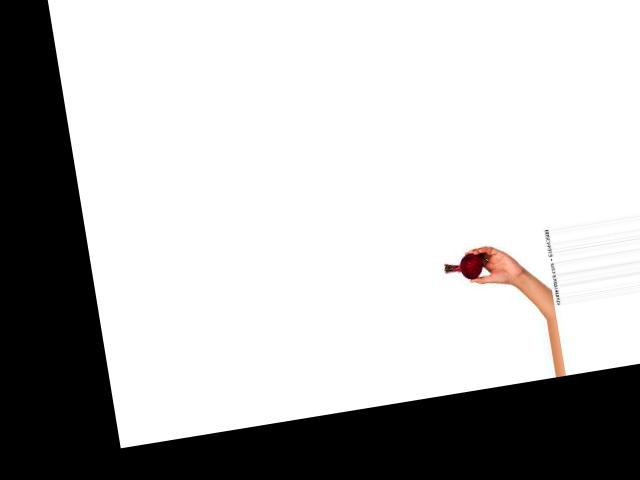beet: (442, 251, 484, 282)
